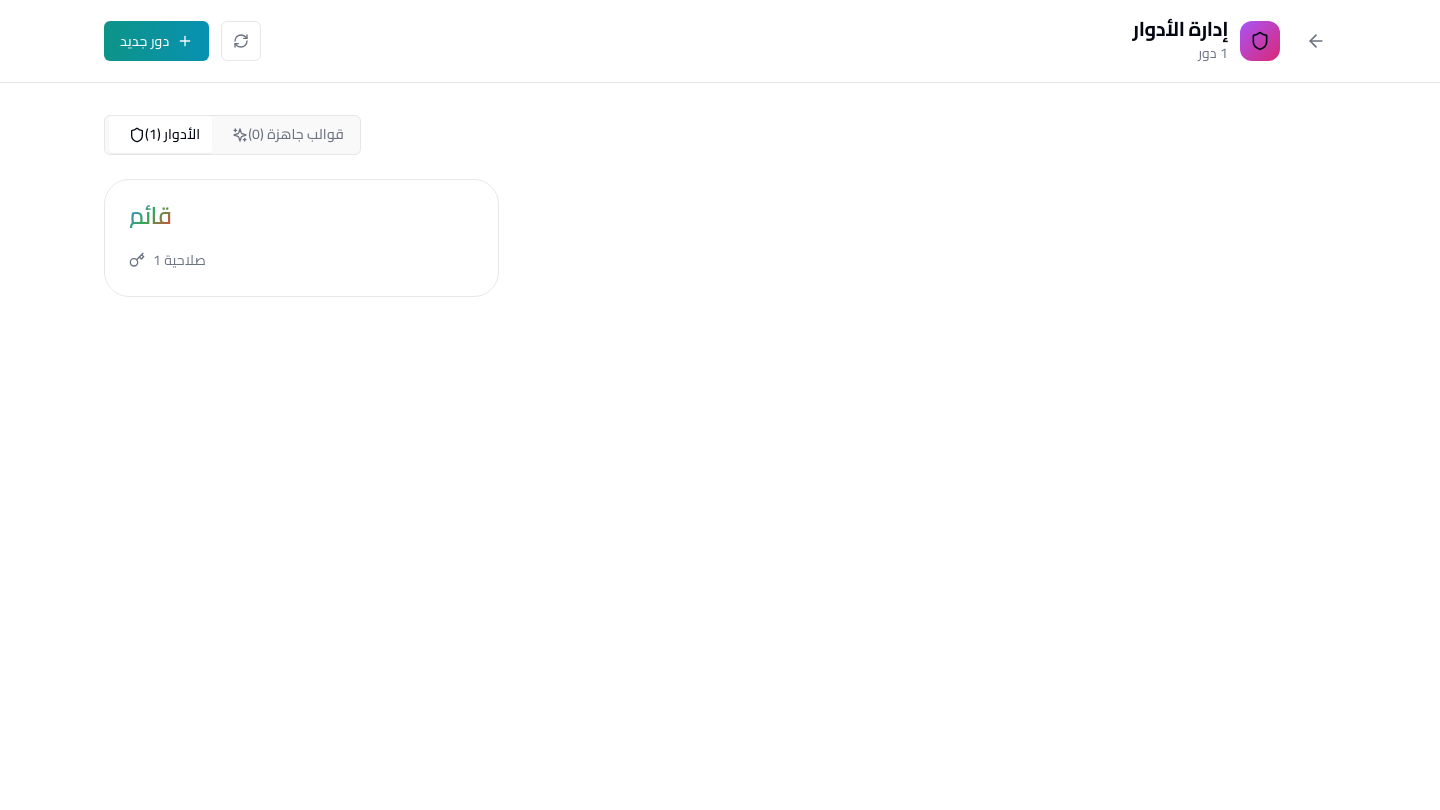
Test: roles page — Migration 174 RPC path › badges a sensitive permission in the editor using the backend list
expect the heading "قائم" is shown: met, box [129,204,172,228]
Click the button "دور جديد".
click(157, 41)  # box [104,21,209,61]
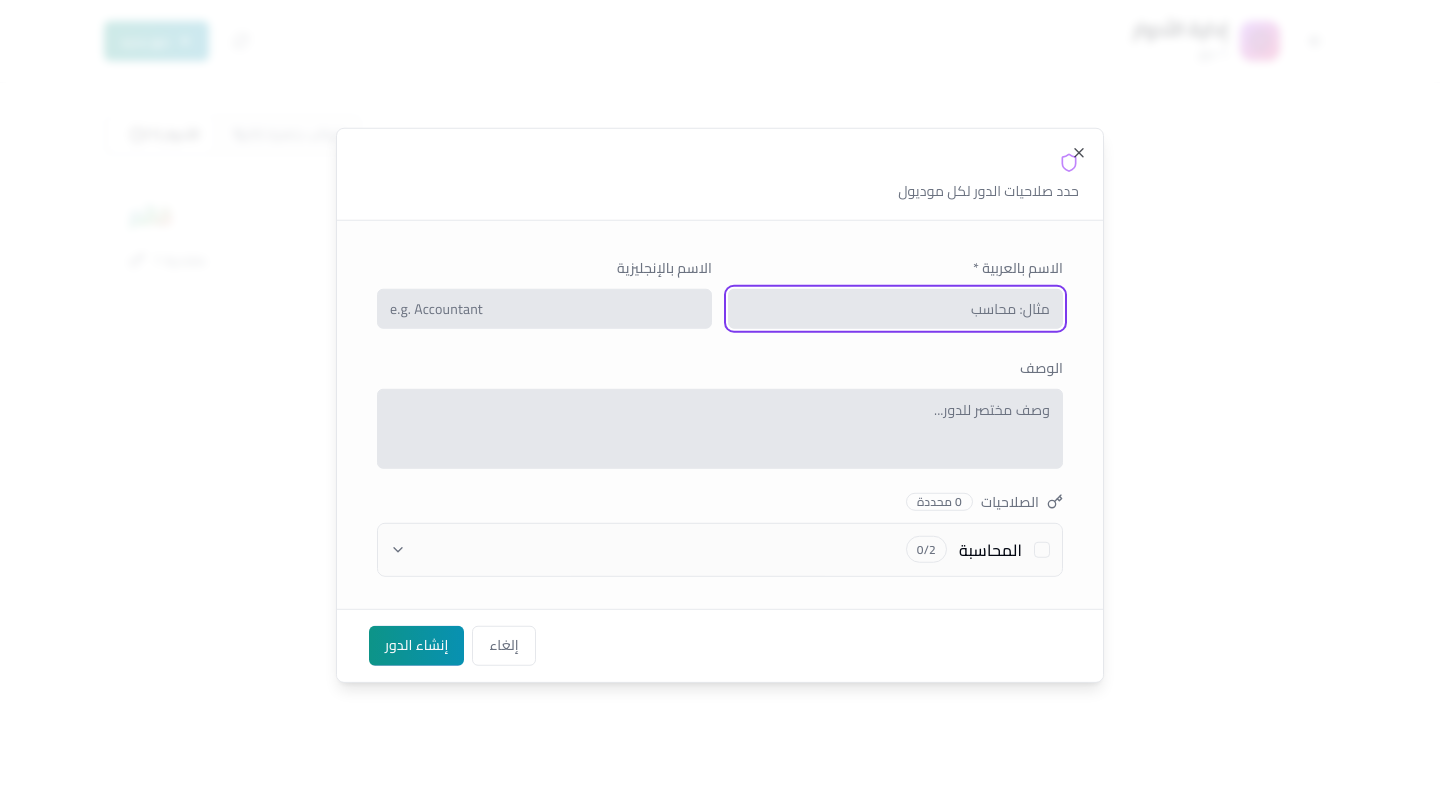
expect the text "المحاسبة" is shown: met
Click the text "المحاسبة".
click(990, 549)  # box [959,535,1022,563]
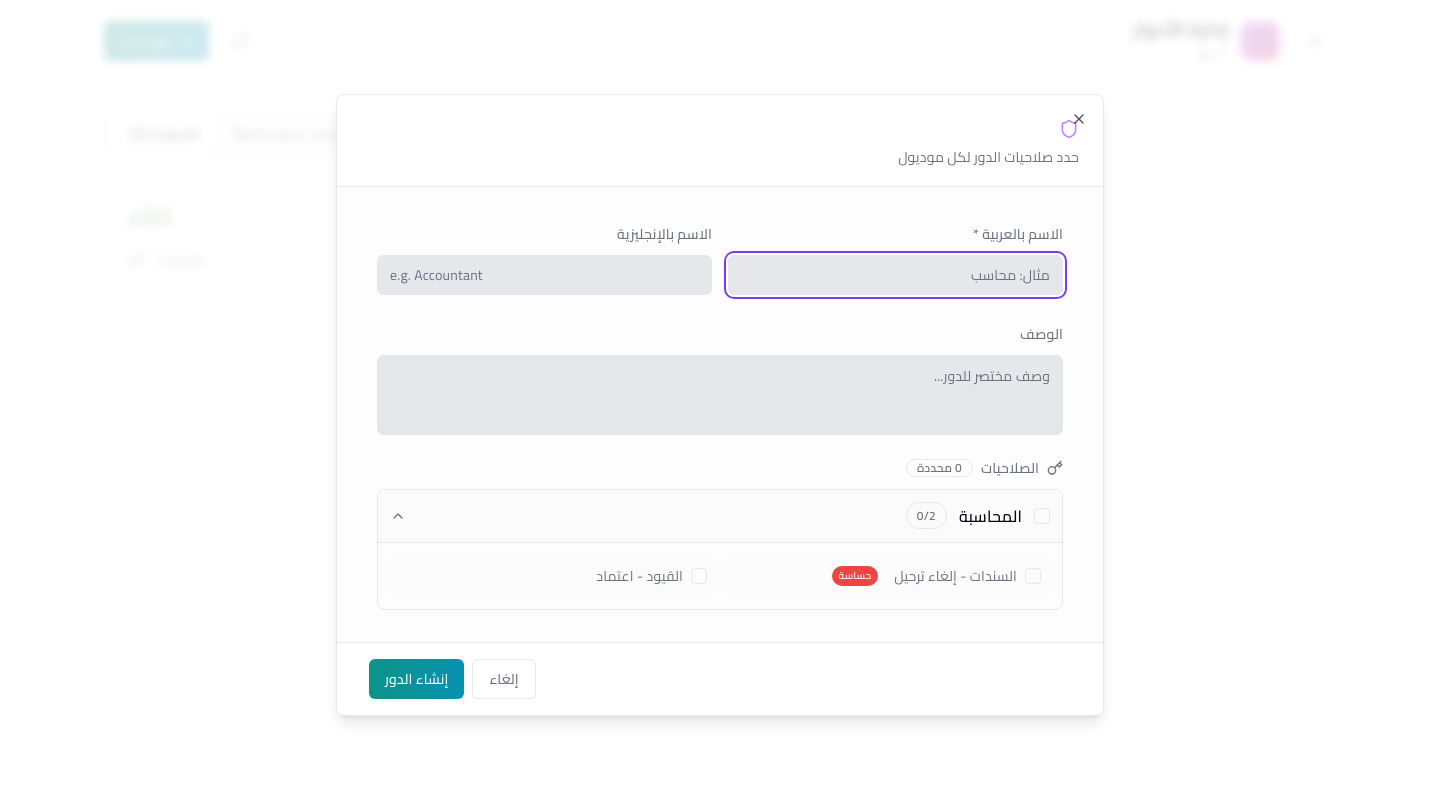
expect the text "حساسة" is shown: met, box [832,566,878,586]
